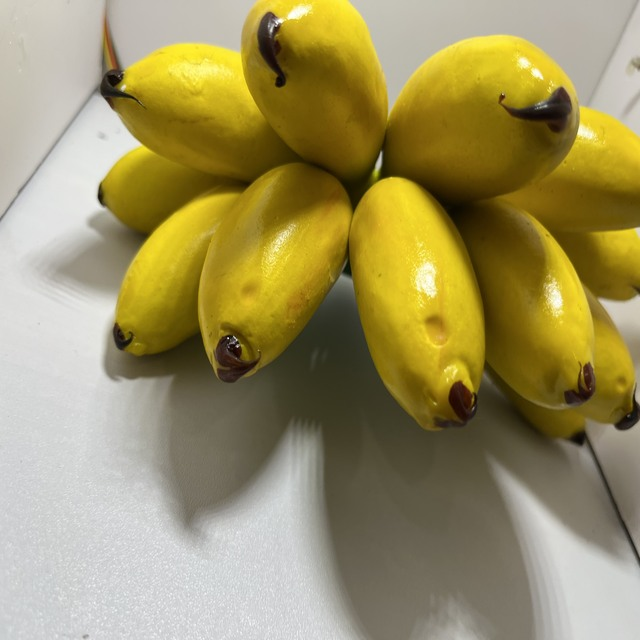Chuoi: (88, 0, 640, 455)
